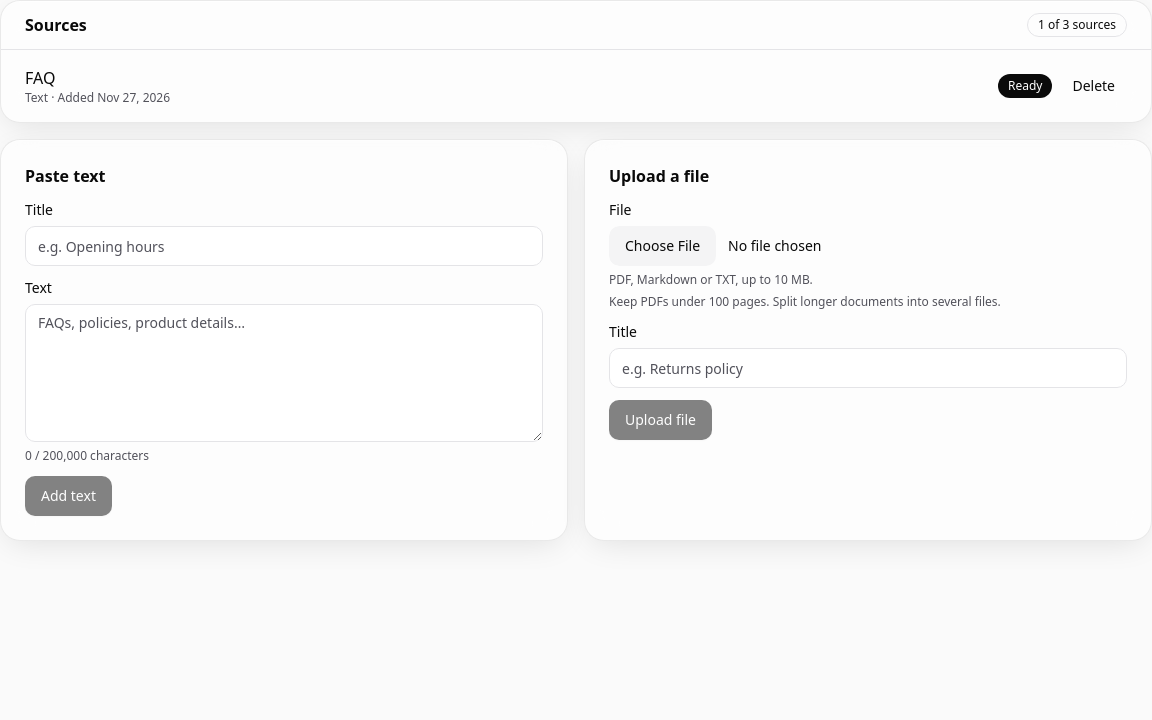
Test case: delete › shows a failed delete's message
Step 1. Click the button "Delete" → coordinates (1094, 86), box [1060, 70, 1127, 102]
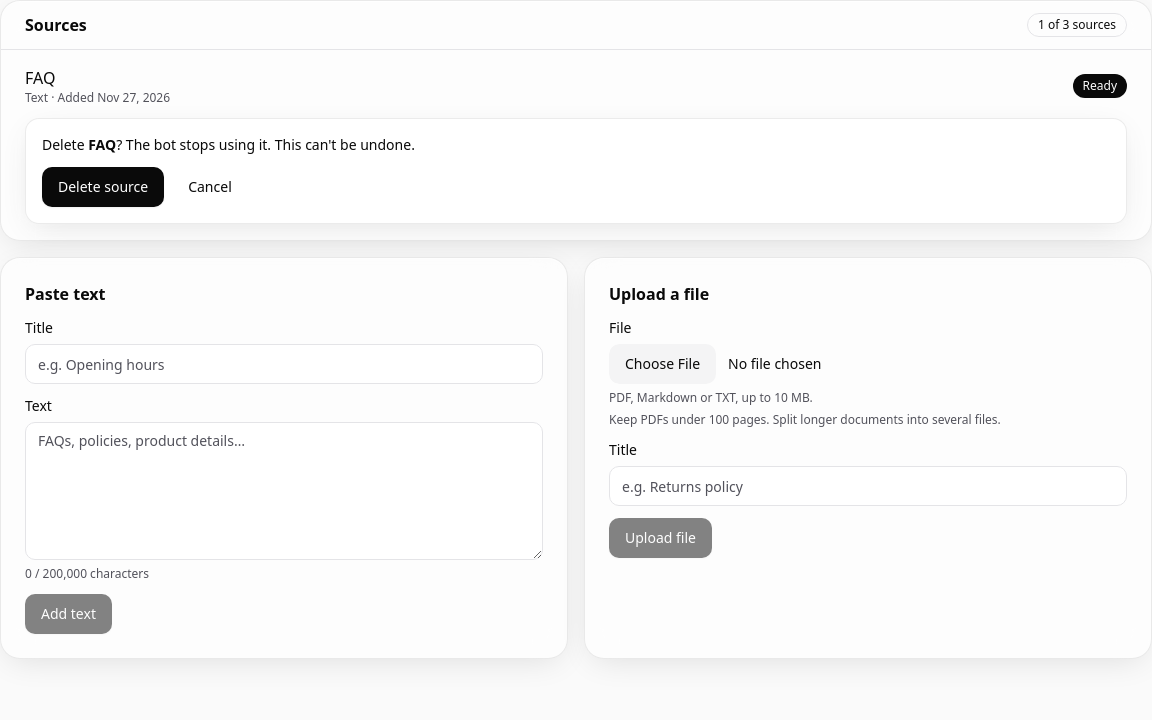
Step 2. Click the button "Delete source" → coordinates (103, 187), box [42, 167, 164, 207]
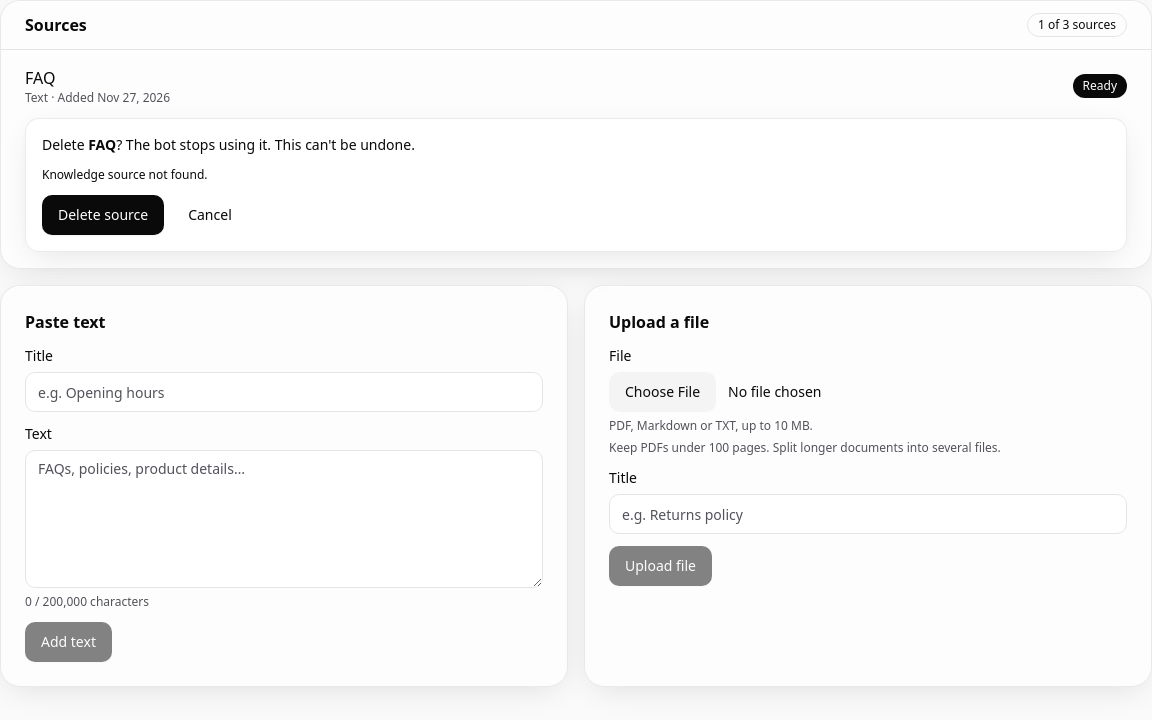
Check: the message reads "Knowledge source not found.", box [42, 166, 208, 183]
